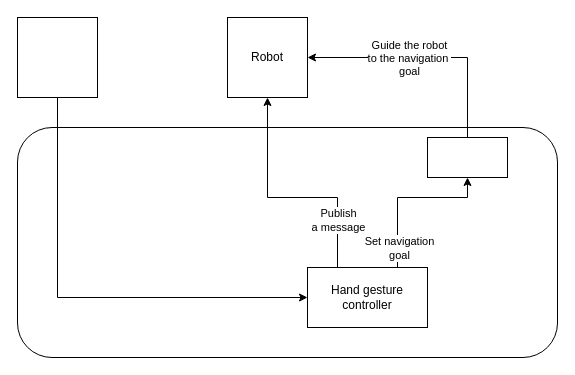
Some shapes in this 575 by 375 pixel diagram are drawn without their labels. The shapes that lost their labels are listed below. From the top down, each one's centre as x and y in pixels, then its label:
(x=57, y=57): Macro file
(x=467, y=157): Nav2
